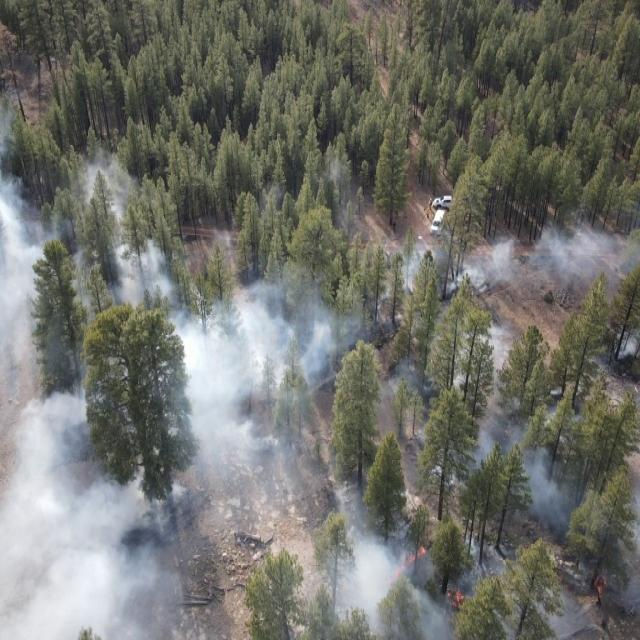fire: (393, 534, 439, 581), (578, 564, 618, 608), (443, 580, 473, 616)
smoke: (0, 158, 177, 640), (178, 219, 640, 382), (180, 382, 332, 640), (334, 480, 474, 640), (472, 509, 640, 640), (462, 382, 592, 538), (255, 153, 367, 219), (372, 381, 435, 481), (0, 77, 21, 161)
